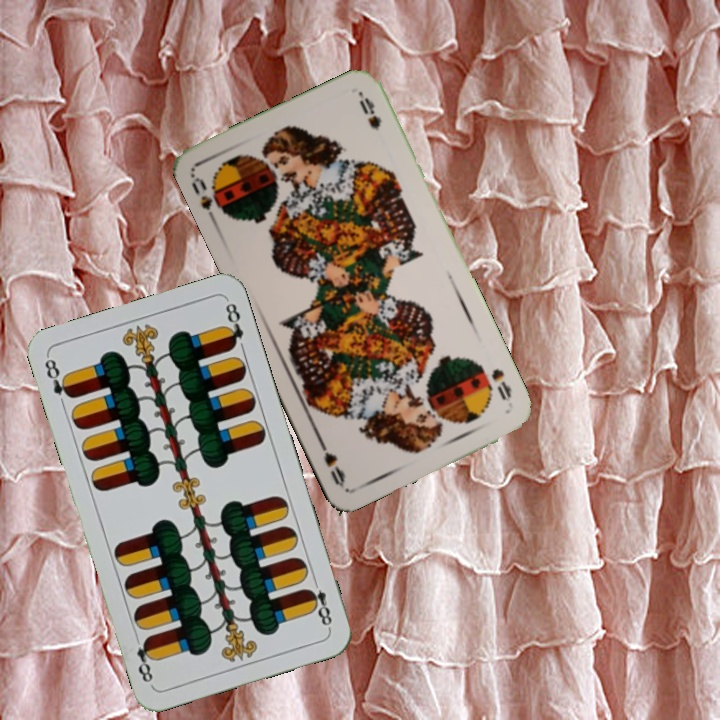E8: (303, 573, 335, 632), (40, 353, 76, 401)
SO: (187, 171, 231, 227), (487, 364, 514, 403)
